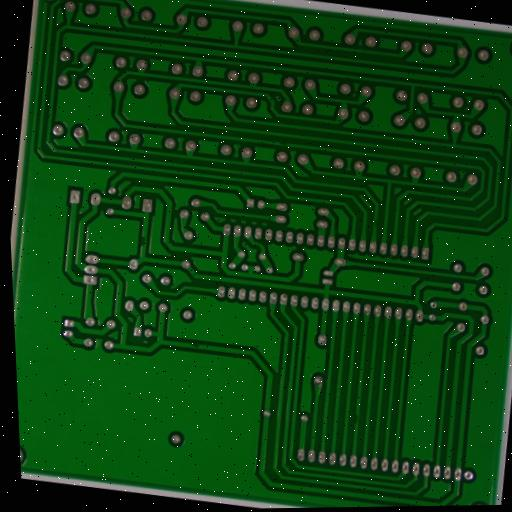mouse_bite: (137, 233, 150, 250), (185, 340, 203, 352), (351, 411, 364, 427), (370, 215, 382, 230), (277, 139, 290, 149)
